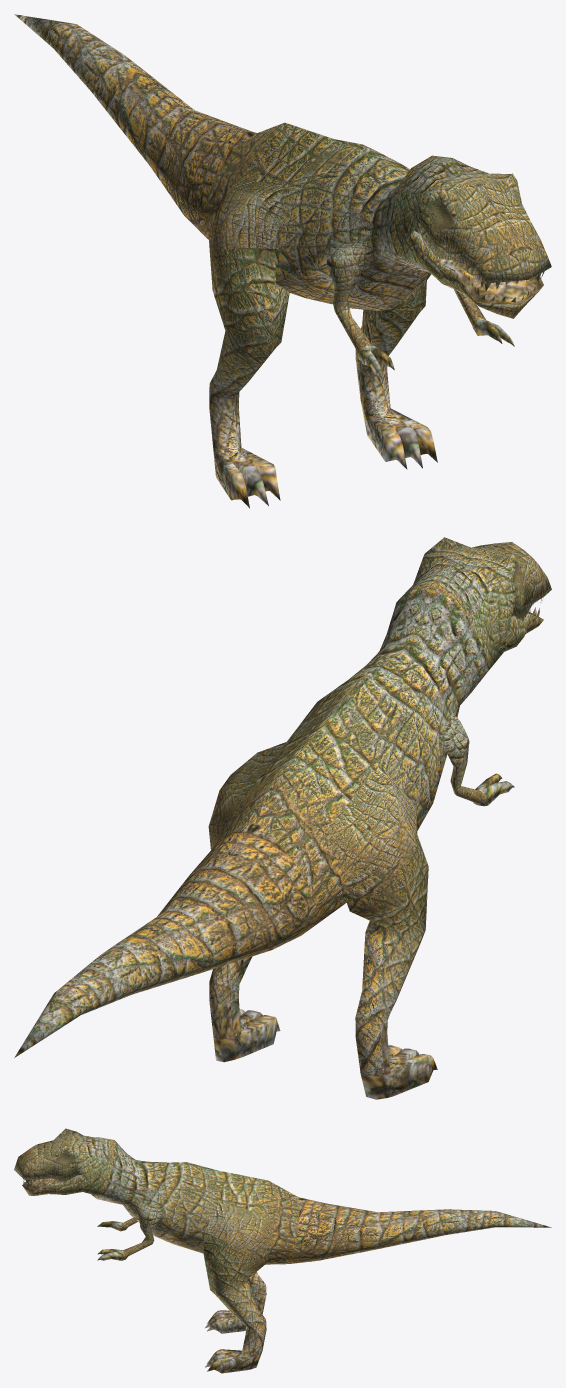
The model's file is tREX.obj.
3 renders of one model, top to bottom at view 1: azimuth 30°, elevation 25°; view 2: azimuth 150°, elevation 25°; view 3: azimuth 270°, elevation 25°, orthographic. The views are drawn at different scales.
Parts seen in each view (by area): view 1: Cube; view 2: Cube; view 3: Cube.
Part boxes in pixels (x1=…): Cube: x1=14, y1=14, x2=551, y2=508; Cube: x1=14, y1=537, x2=551, y2=1099; Cube: x1=14, y1=1128, x2=551, y2=1373.
Size of the model in its own units: 12.7 by 24.92 by 57.23.
1 material, 1 textured.
